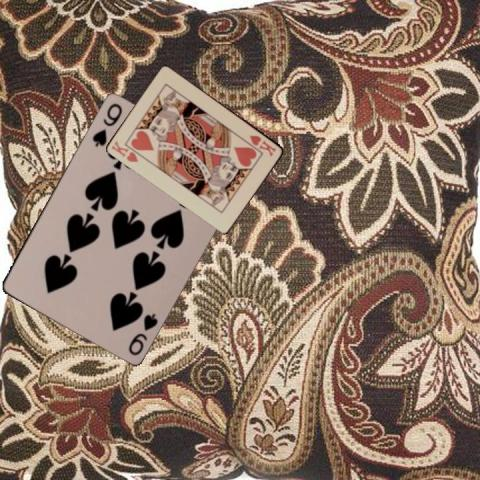9s: (89, 99, 124, 148), (125, 309, 159, 357)
Kh: (247, 132, 278, 158), (109, 138, 140, 163)
